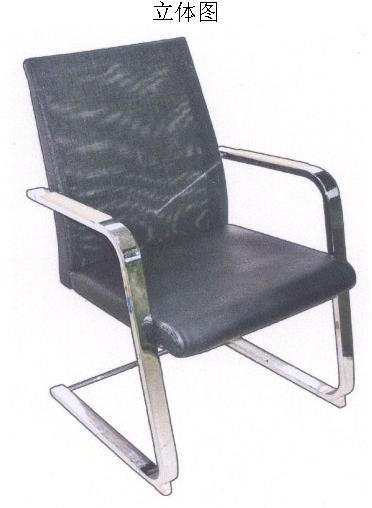obstacle: (24, 38, 354, 494)
